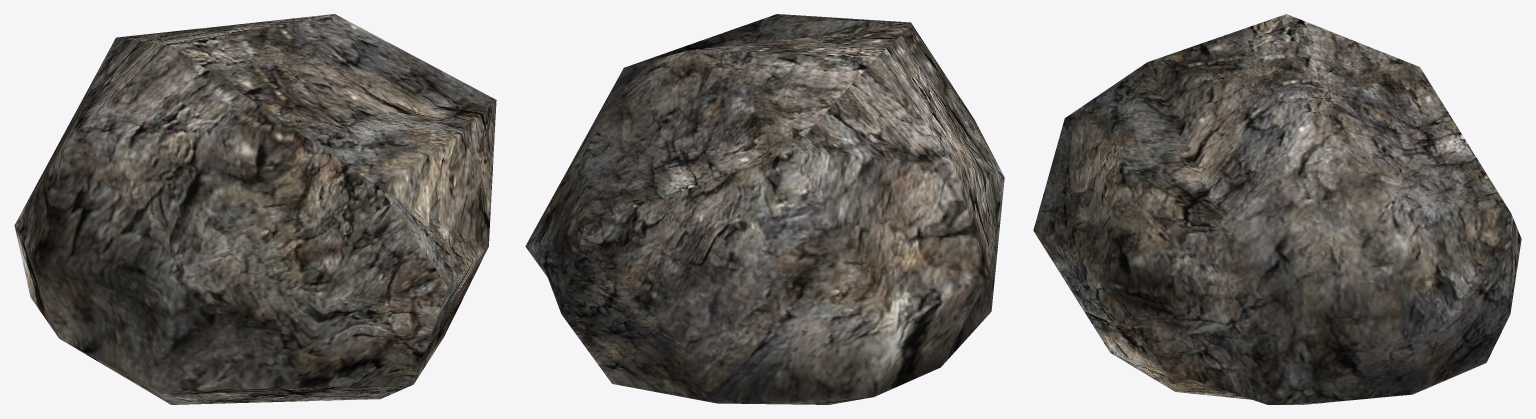
Rendered from pir_m_prp_cav_rock_k.fbx.
3 views of the same model, side by side, from view 1: azimuth 30°, elevation 25°; view 2: azimuth 150°, elevation 25°; view 3: azimuth 270°, elevation 25° (orthographic). The views are drawn at different scales.
Visible parts, largest first — view 1: lod_high; view 2: lod_high; view 3: lod_high.
Part boxes in pixels (x1=…): lod_high: x1=14, y1=14, x2=496, y2=404; lod_high: x1=525, y1=14, x2=1004, y2=404; lod_high: x1=1033, y1=14, x2=1521, y2=404.
Bounding box in the file's own units: 446 × 359 × 491.
Materials: 1 (1 with a texture image).
